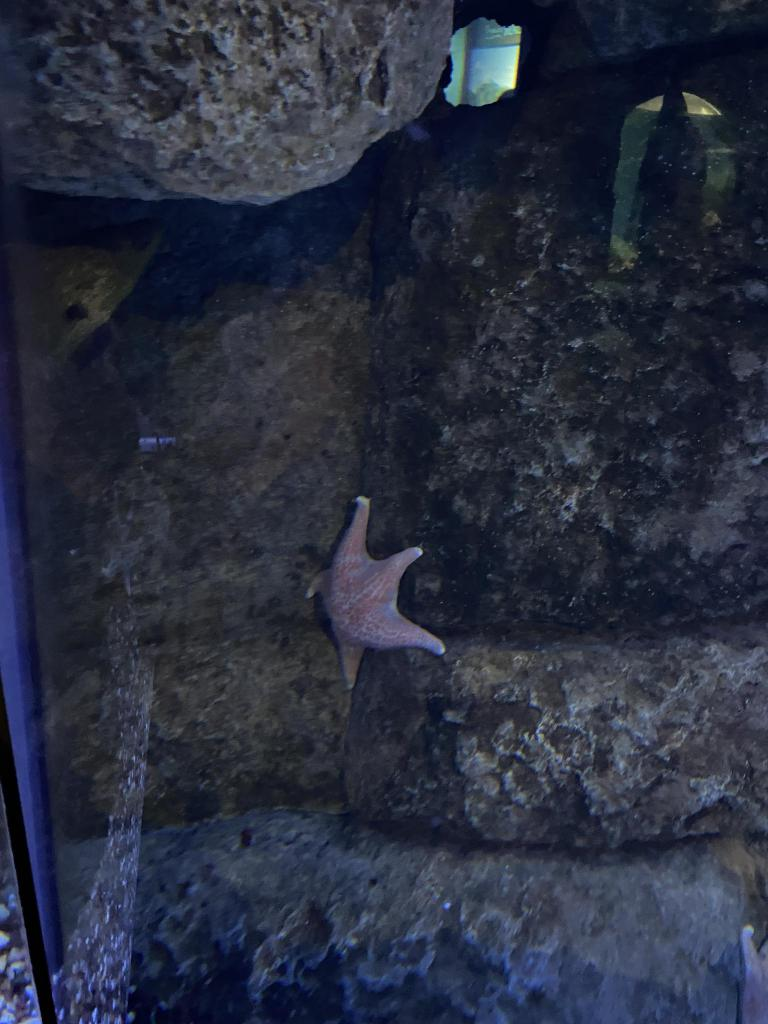starfish: (304, 496, 446, 688)
